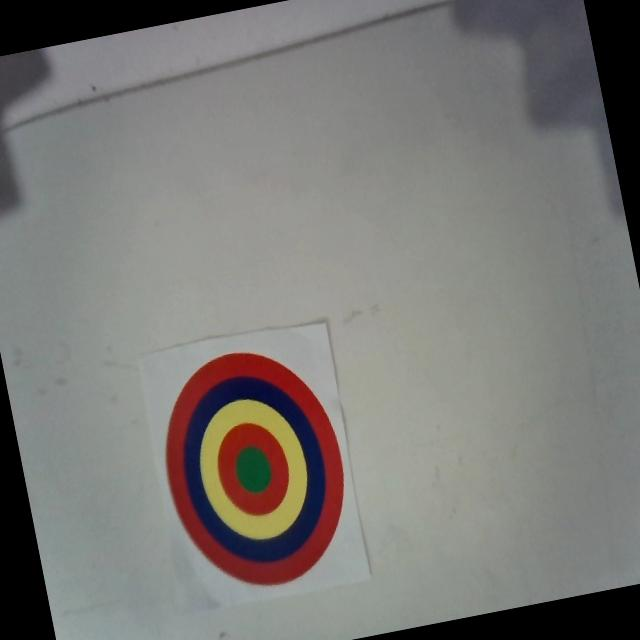cogn: (146, 334, 365, 604)
